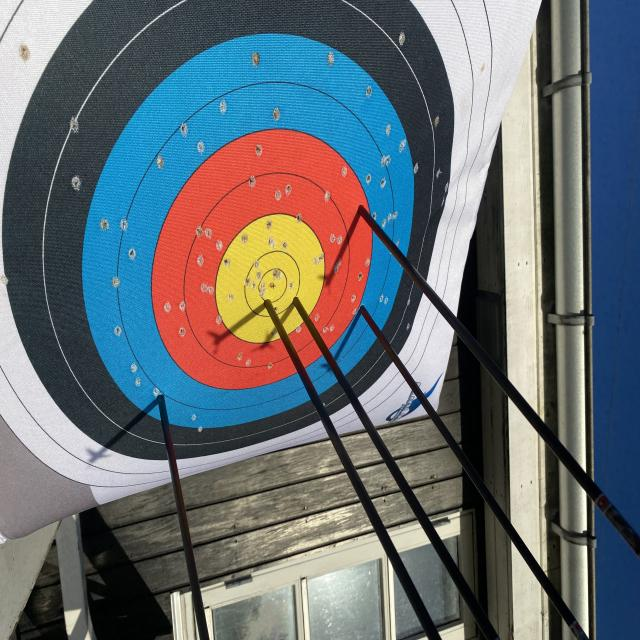Arrow_Blue: (148, 384, 176, 417), (357, 296, 372, 332)
Arrow_Red: (352, 181, 373, 240)
Arrow_Yellow: (261, 286, 282, 327), (287, 287, 308, 313)
